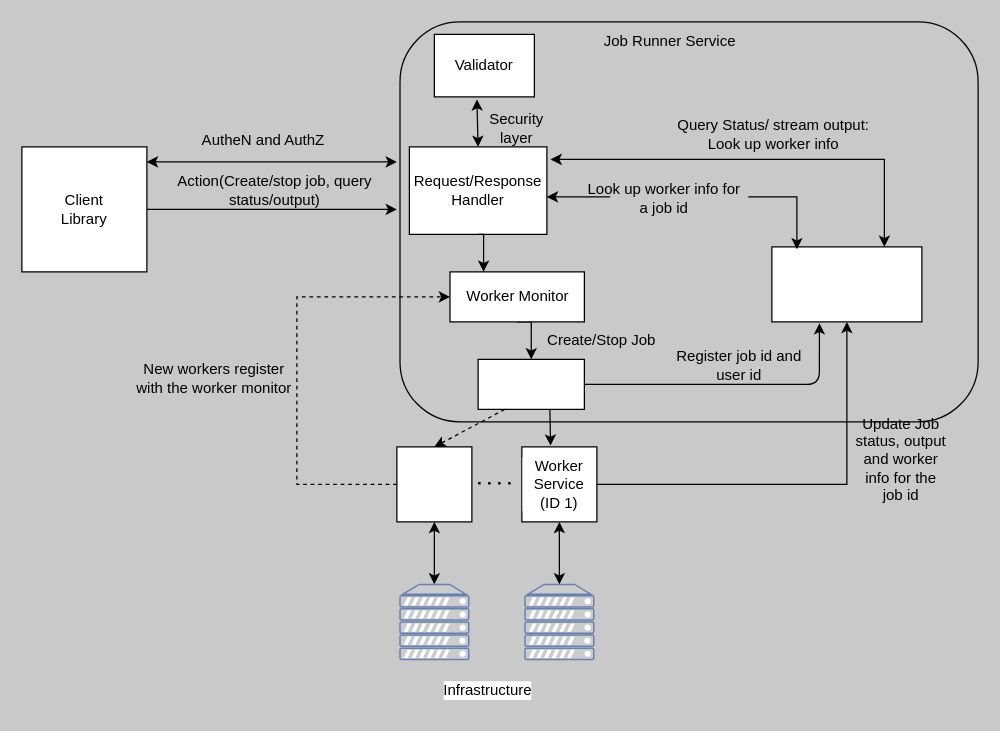
Image size: 1000x731. Some labels were removed from this diagram. The centre of each missing label's shape, as x and y in pixels:
"Dispatcher" goes at point 530,383.
"Job Registery (Job ID, user ID, status, output)" goes at point 846,284.
"Worker Service (ID N)" goes at point 434,484.
